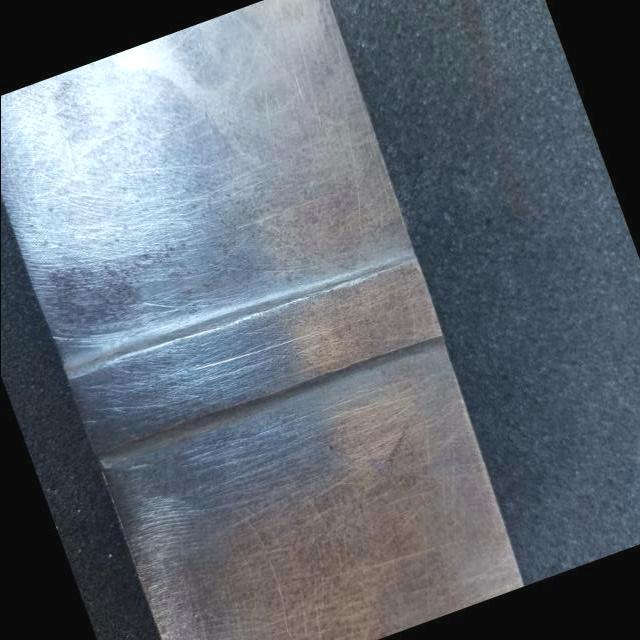defect: (191, 329, 319, 371)
